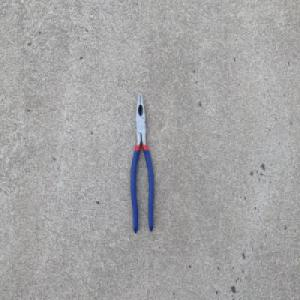Pliers: (129, 91, 155, 236)
